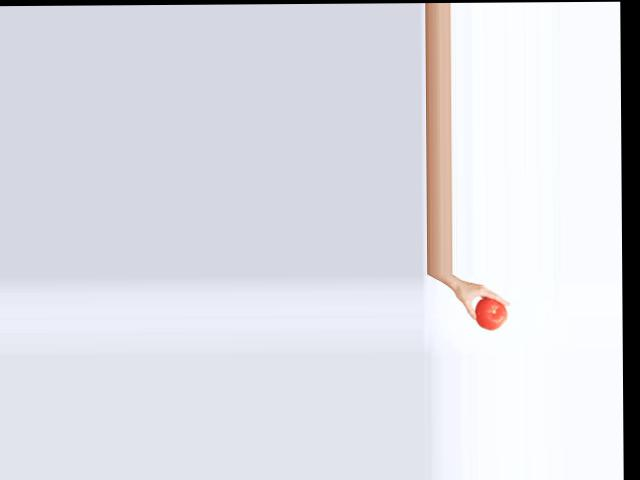tomato: (475, 298, 507, 329)
